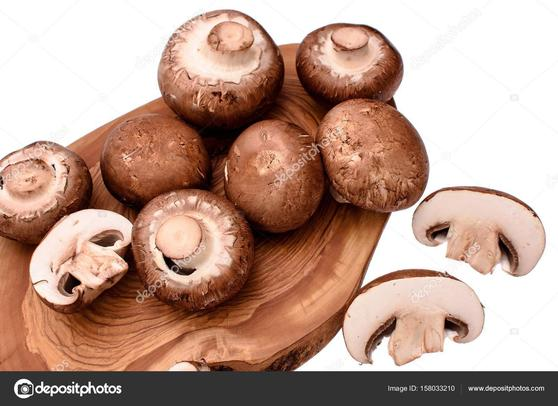champignon: (129, 190, 256, 306), (159, 11, 289, 124), (312, 99, 430, 212), (103, 115, 208, 205), (1, 138, 90, 242), (298, 17, 403, 105)
